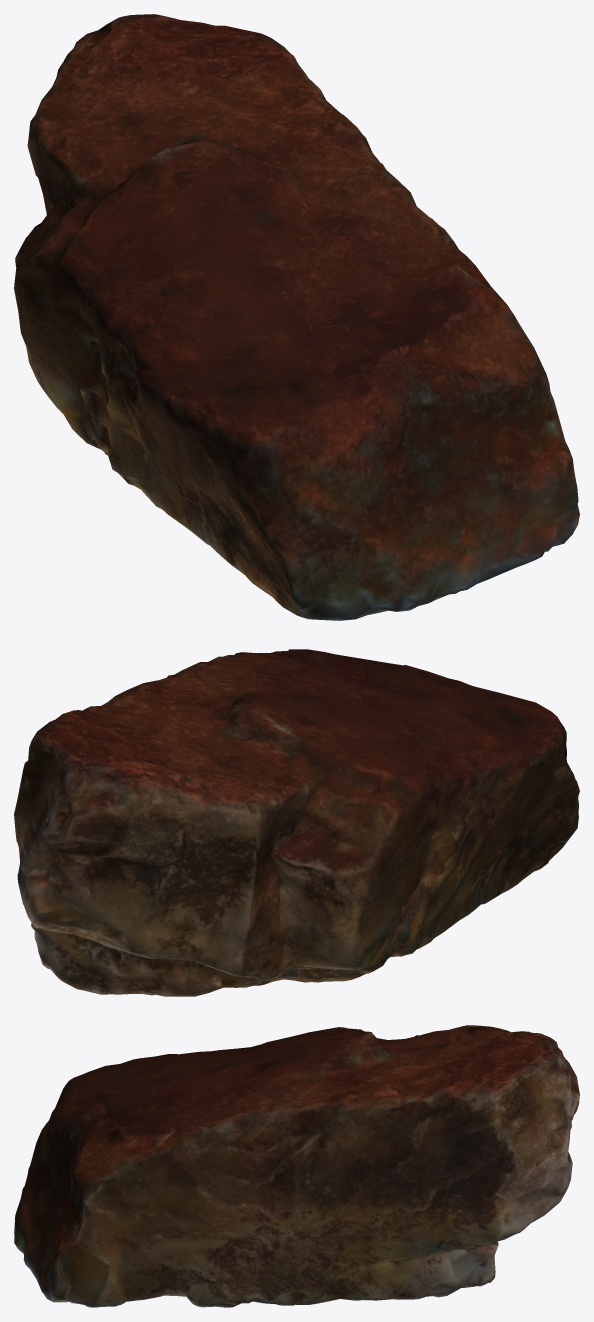
File: rock_07.glb
3 views of the same model, one above another, from view 1: azimuth 30°, elevation 25°; view 2: azimuth 150°, elevation 25°; view 3: azimuth 270°, elevation 25° (orthographic). The views are drawn at different scales.
Parts seen in each view (by area): view 1: rock_07; view 2: rock_07; view 3: rock_07.
Boxes of the visible parts, x1,y1,x2,y2 form: rock_07: (14,14,579,620); rock_07: (14,649,579,996); rock_07: (14,1025,579,1307).
Size of the model in its own units: 0.1689 by 0.1437 by 0.3202.
1 material, 1 textured.
